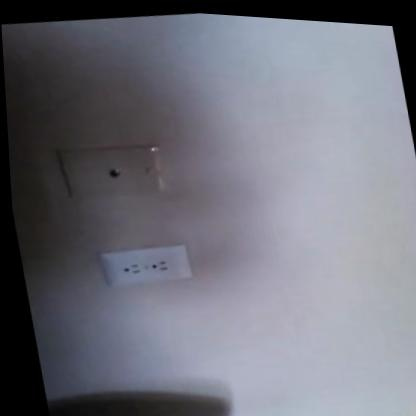OUTLET: (98, 240, 194, 292)
